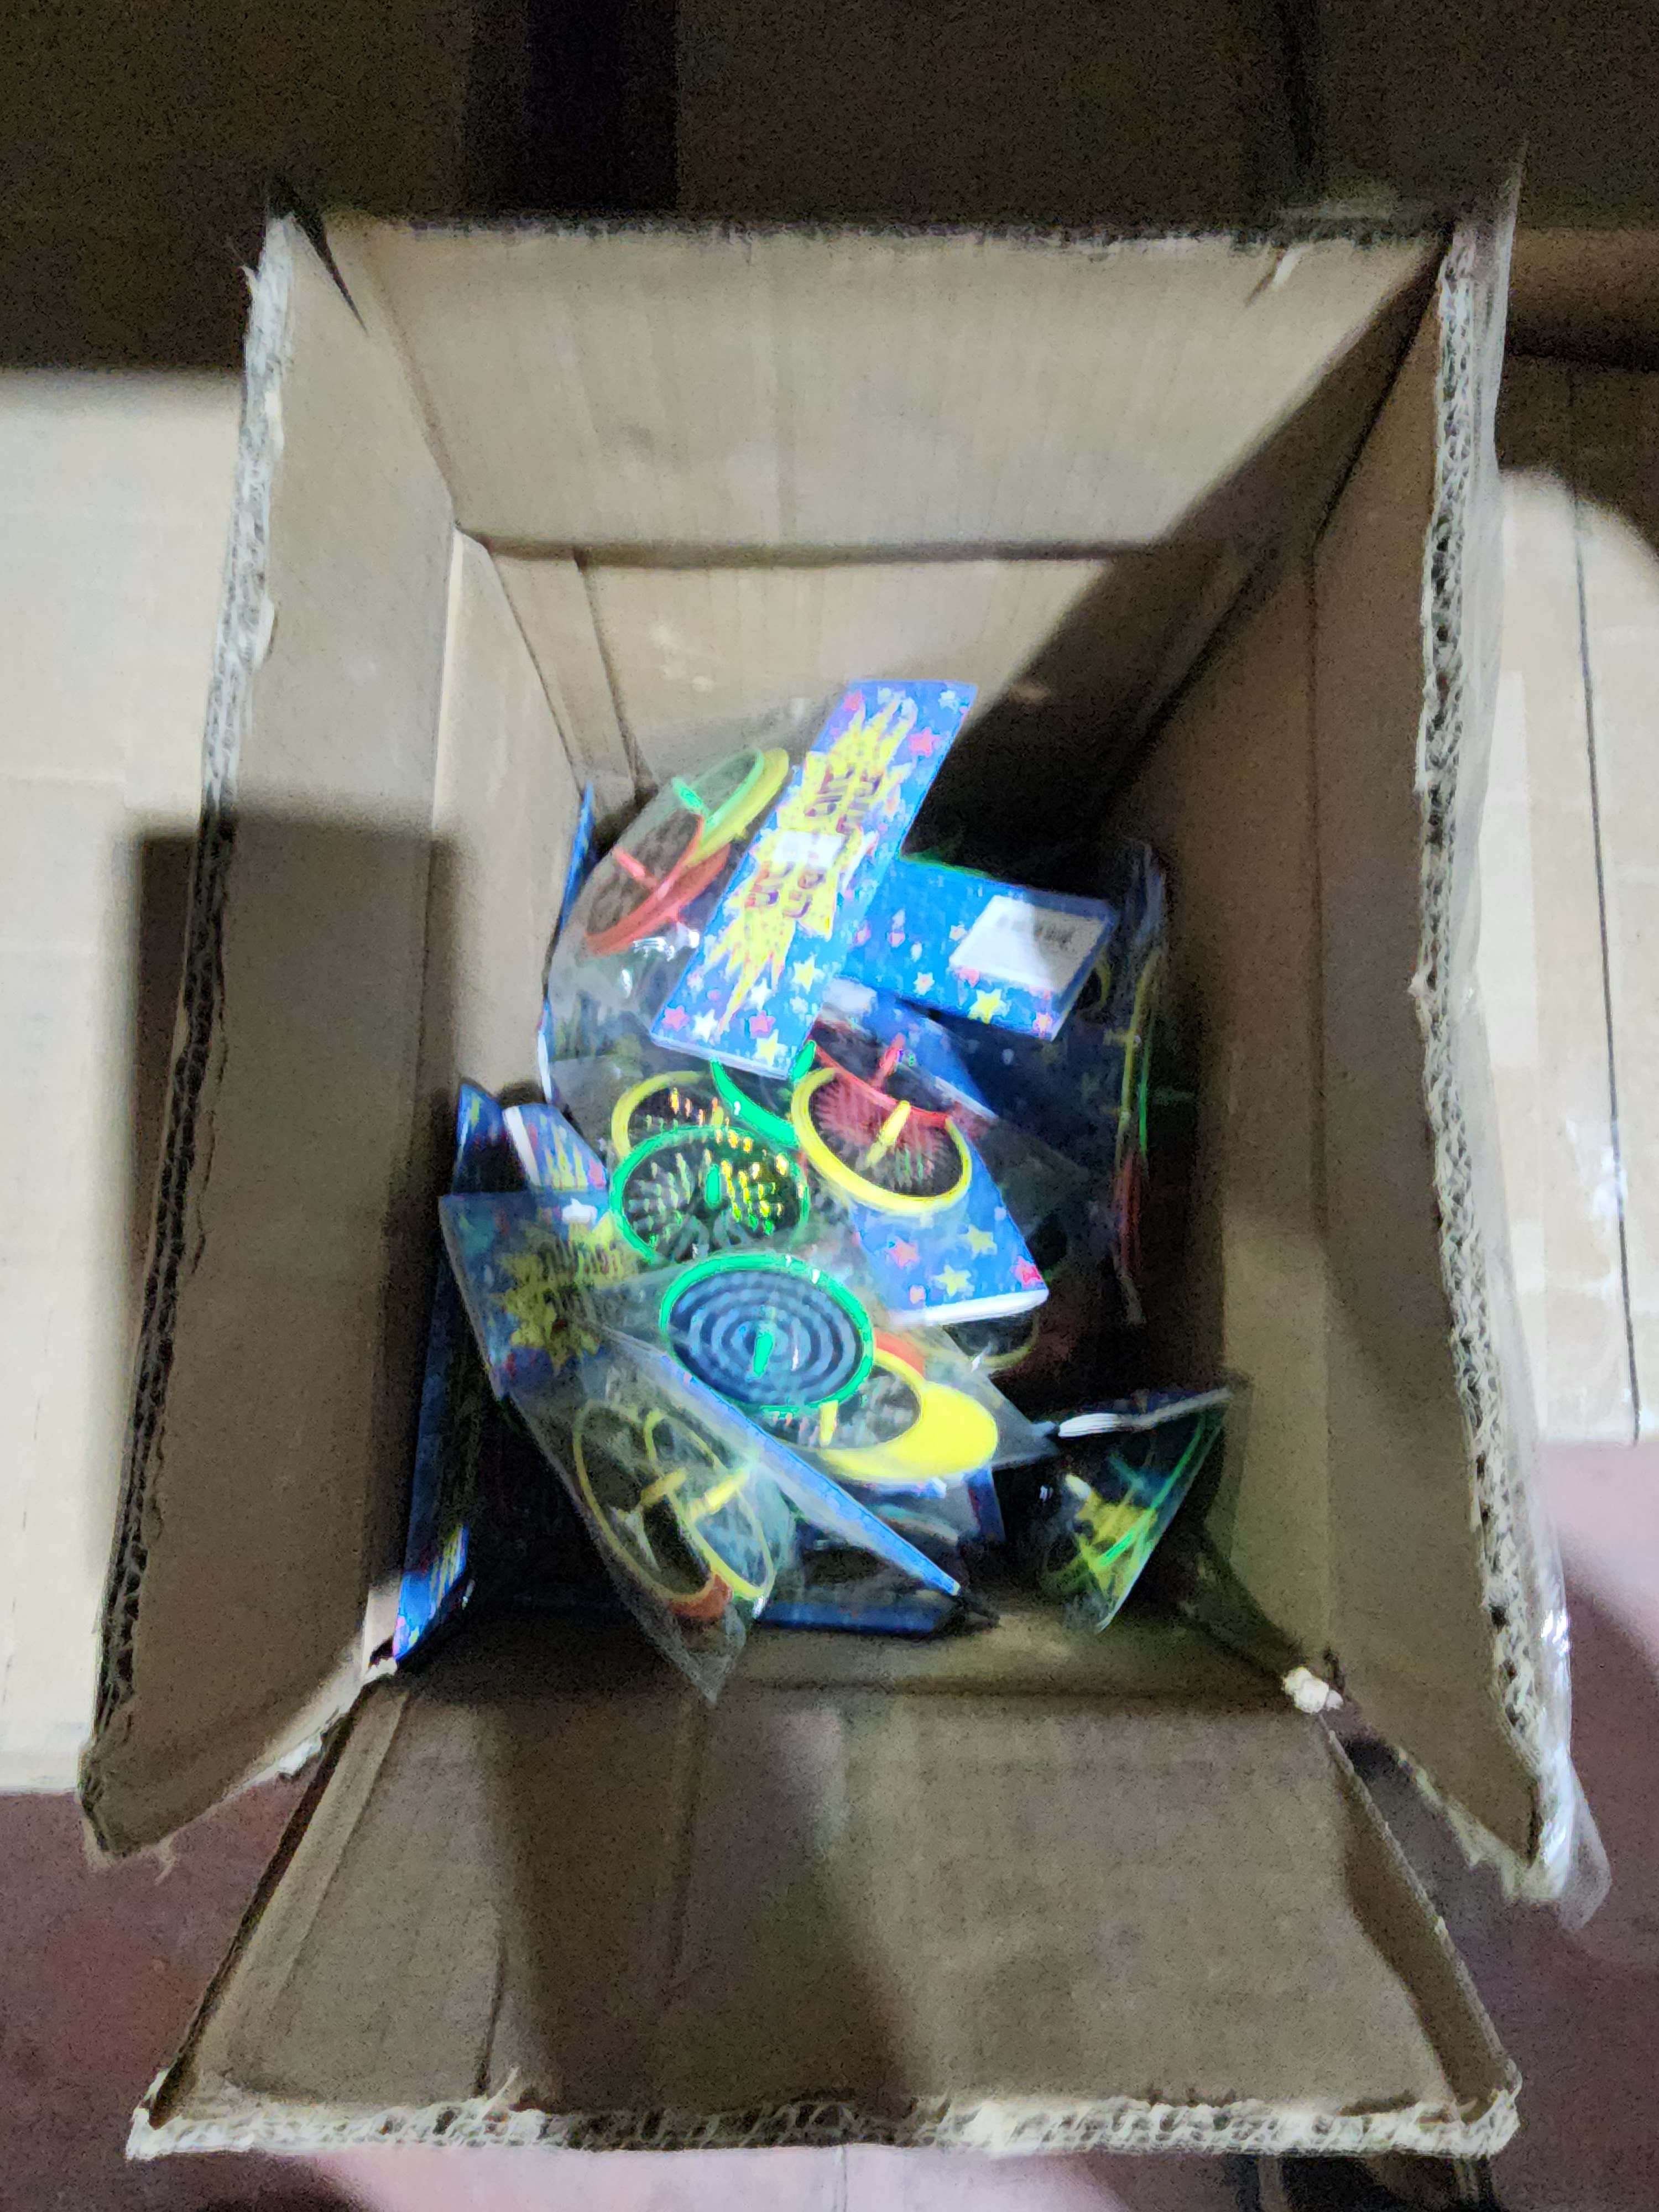box: (164, 143, 1598, 2170)
